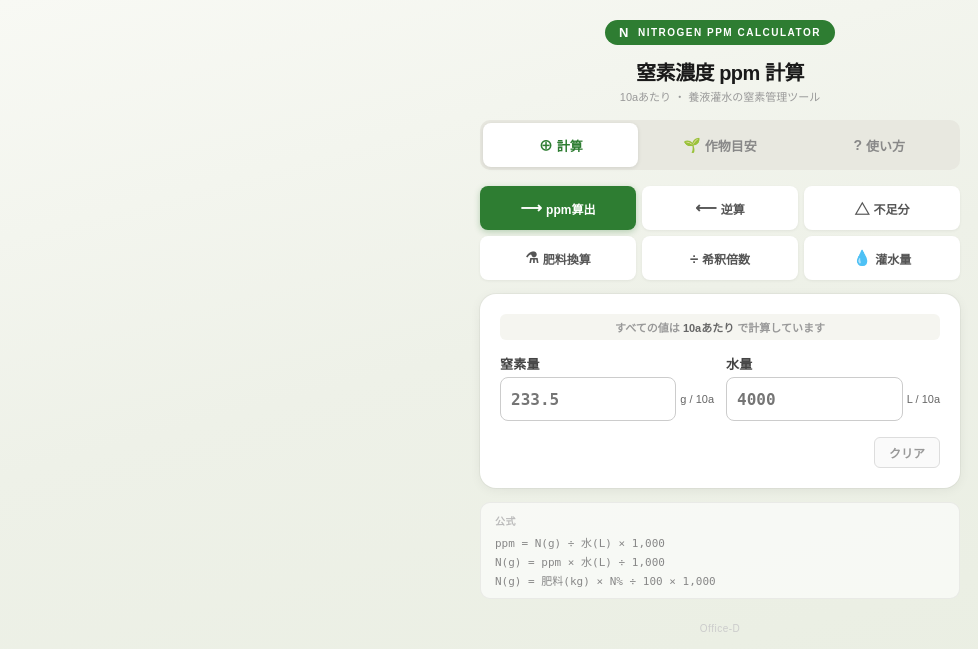
Scenario: App › 作物目安タブに切り替えできる
Click the button "🌱 作物目安" at (720, 145), box x1=642 y1=123 x2=798 y2=167
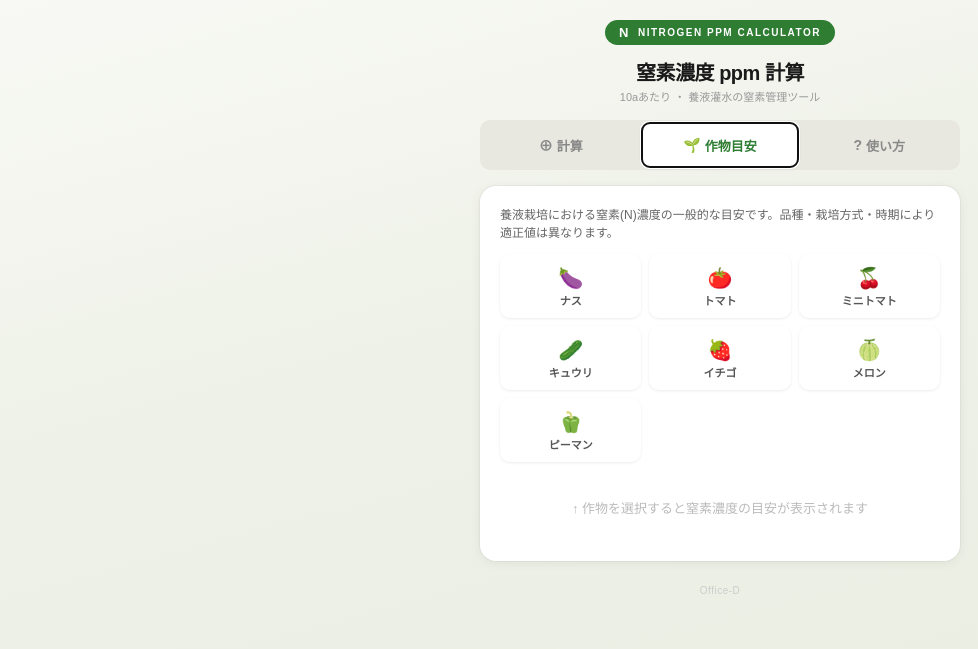
Check: the text "ナス" is shown, box x1=560 y1=292 x2=582 y2=308
Check: the text "トマト" is shown, box x1=704 y1=292 x2=736 y2=308
